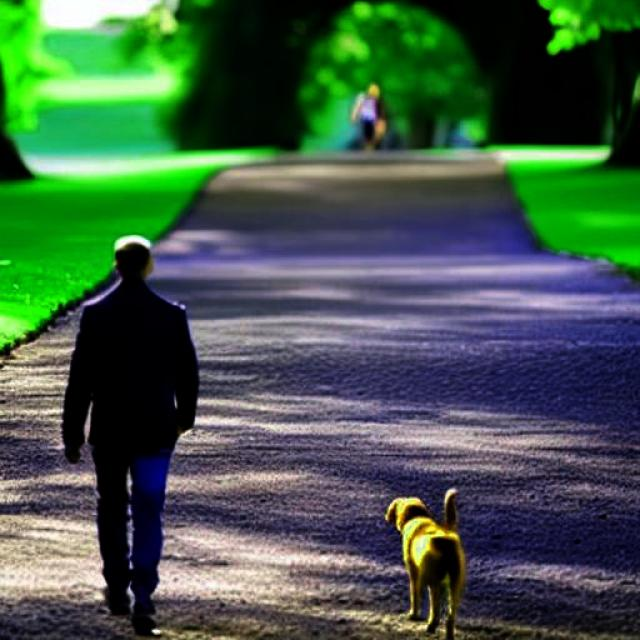Unleashed_Dog: (100, 407, 466, 640)
